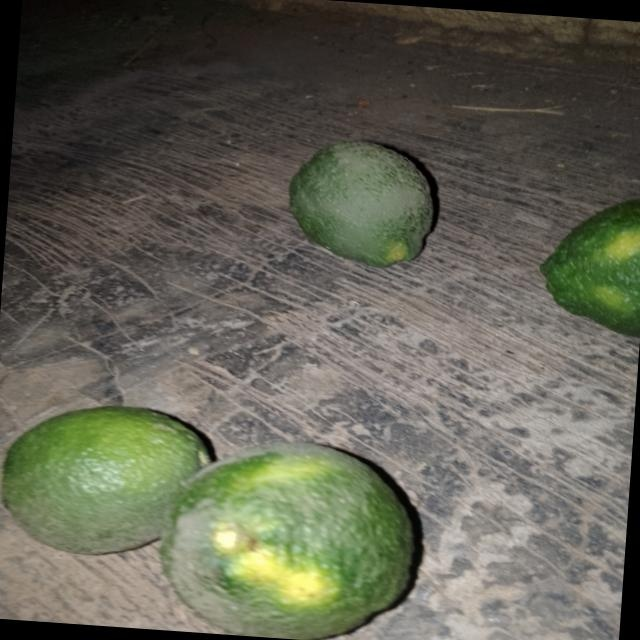agrume: (150, 423, 428, 640), (0, 390, 202, 588), (265, 127, 450, 297), (530, 181, 640, 354)
